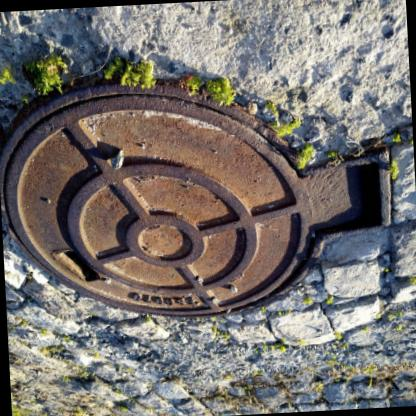manholes: (0, 31, 413, 348)
